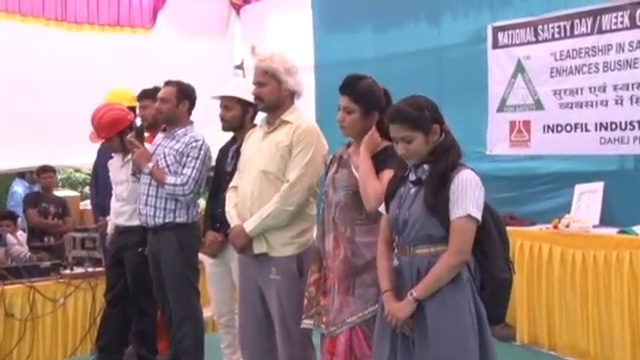helmet: (87, 107, 134, 145), (207, 79, 255, 106), (101, 87, 141, 110)
helmet_off: (382, 91, 450, 178), (333, 71, 385, 149), (243, 55, 307, 118), (155, 79, 201, 131), (140, 87, 162, 129), (31, 167, 54, 196), (0, 208, 19, 240), (15, 169, 39, 191)
helmet_on: (206, 77, 256, 138), (87, 107, 143, 156)
person: (373, 98, 518, 360), (224, 55, 331, 360), (127, 79, 213, 360), (315, 69, 392, 360), (85, 109, 160, 359), (201, 74, 256, 360), (22, 167, 69, 248), (7, 169, 37, 229)
